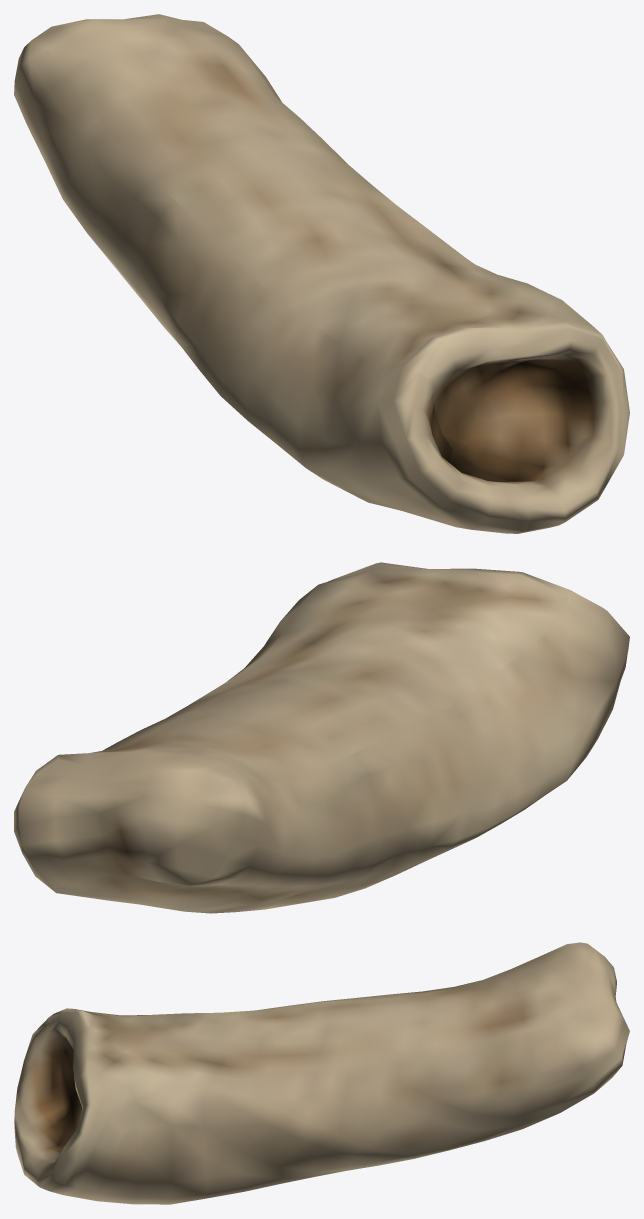
Rendered from Lower_Incisor2.glb.
3 views of the same model, one above another, from view 1: azimuth 30°, elevation 25°; view 2: azimuth 150°, elevation 25°; view 3: azimuth 270°, elevation 25° (orthographic). The views are drawn at different scales.
Parts seen in each view (by area): view 1: Lower_Incisor2.glb; view 2: Lower_Incisor2.glb; view 3: Lower_Incisor2.glb.
Boxes of the visible parts, left/top/right/bottom form: Lower_Incisor2.glb: left=14, top=14, right=629, bottom=533; Lower_Incisor2.glb: left=14, top=562, right=629, bottom=913; Lower_Incisor2.glb: left=14, top=942, right=629, bottom=1204.
Size of the model in its own units: 0.0131 by 0.0119 by 0.0331.
1 material, 1 textured.
